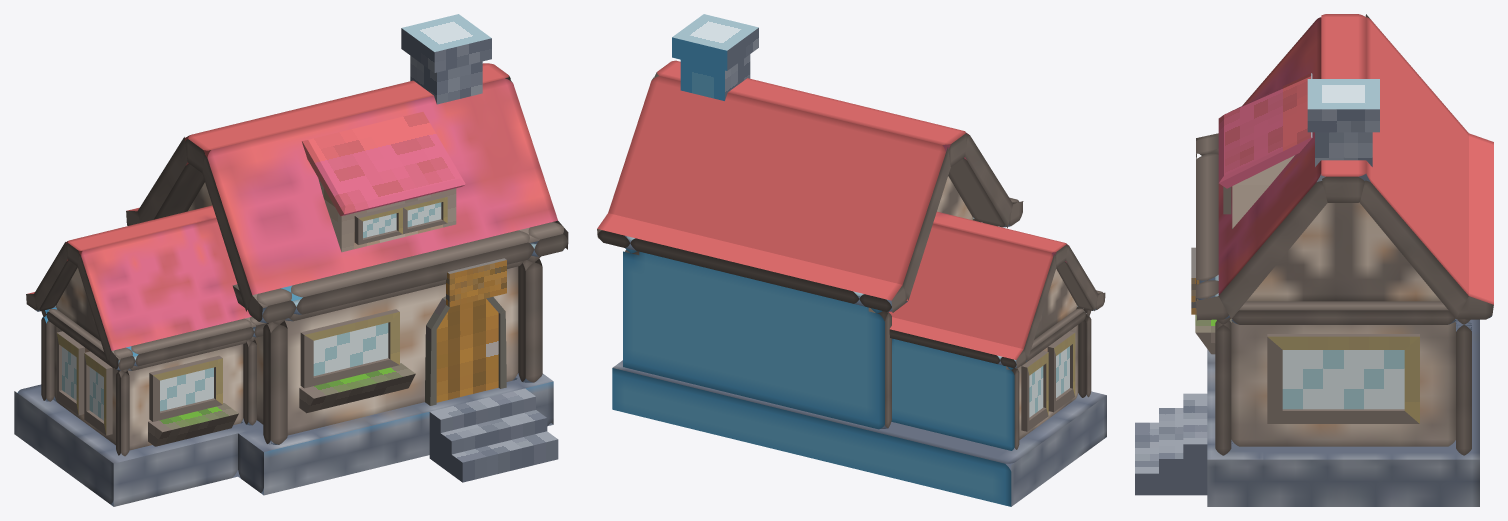
Rendered from house2.fbx.
The picture shows the model from 3 angles, left to right: view 1: azimuth 30°, elevation 25°; view 2: azimuth 150°, elevation 25°; view 3: azimuth 270°, elevation 25°; orthographic projection. The views are drawn at different scales.
Parts seen in each view (by area): view 1: main house, side house, base, upstairs, chim, cube_3, main door, cube_5, cube, perch, cube_1, cube_2 (+7 smaller); view 2: main house, side house, base, chim, sidewindow_1, sidewindow; view 3: main house, base, cube_4, upstairs, chim, cube, cube_1, cube_2, perch.
Part boxes in pixels (box(x1,y1,x2,y2)): main house: box(126, 63, 568, 444); side house: box(26, 205, 266, 456); base: box(14, 373, 553, 506); upstairs: box(302, 112, 465, 252); chim: box(401, 14, 491, 104); cube_3: box(300, 309, 399, 388); main door: box(436, 298, 498, 402); cube_5: box(149, 355, 222, 421); cube: box(429, 431, 558, 482); perch: box(299, 363, 415, 413); cube_1: box(429, 410, 547, 460); cube_2: box(429, 388, 535, 432); main house: box(597, 60, 1023, 429); side house: box(889, 211, 1105, 450); base: box(612, 360, 1106, 506); chim: box(672, 14, 758, 100); sidewindow_1: box(1047, 331, 1075, 412); sidewindow: box(1021, 350, 1048, 431); main house: box(1196, 14, 1493, 455); base: box(1207, 319, 1479, 506); cube_4: box(1267, 334, 1419, 423); upstairs: box(1218, 73, 1312, 228); chim: box(1307, 79, 1379, 182); cube: box(1135, 422, 1207, 495); cube_1: box(1159, 408, 1207, 480); cube_2: box(1183, 393, 1207, 466); perch: box(1195, 314, 1216, 354).
Size of the model in its own units: 208 by 169 by 140.
Materials: 10 (10 with a texture image).
